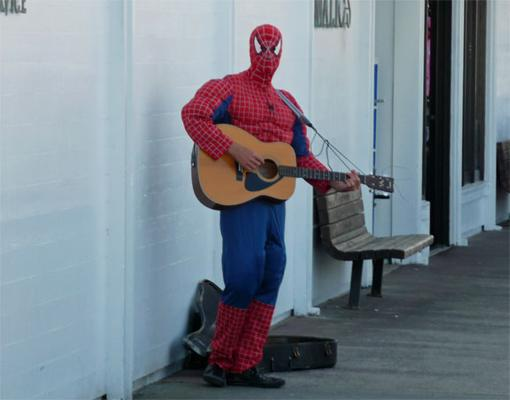person: (182, 25, 363, 390)
